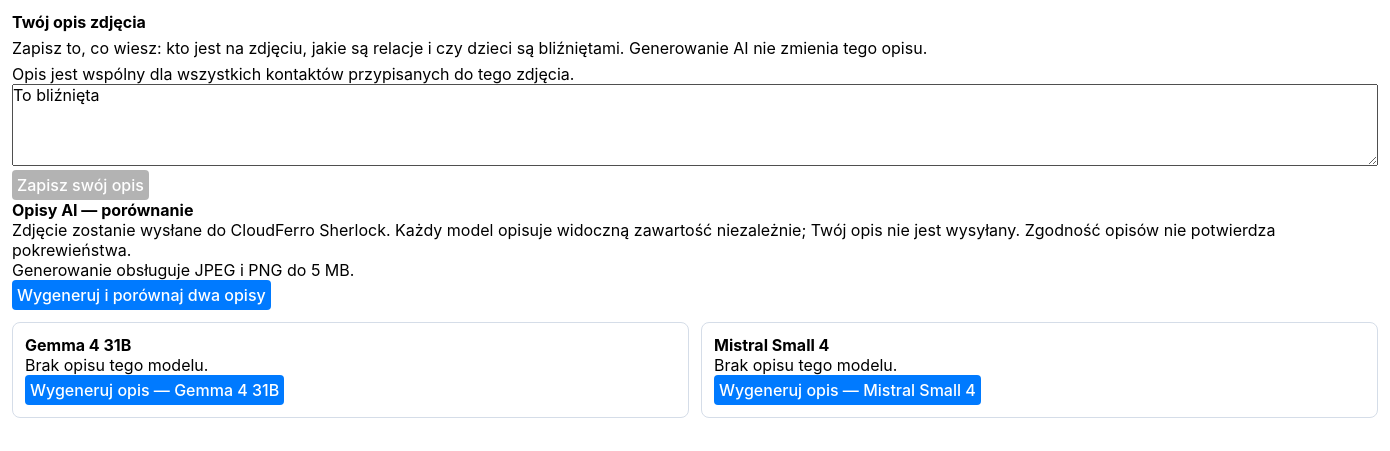
Test: contact photo descriptions › saves user knowledge with a revision and retains generated descriptions
Click the button "Wygeneruj opis — Gemma 4 31B".
click(155, 390)  # box 25,375 -> 284,405
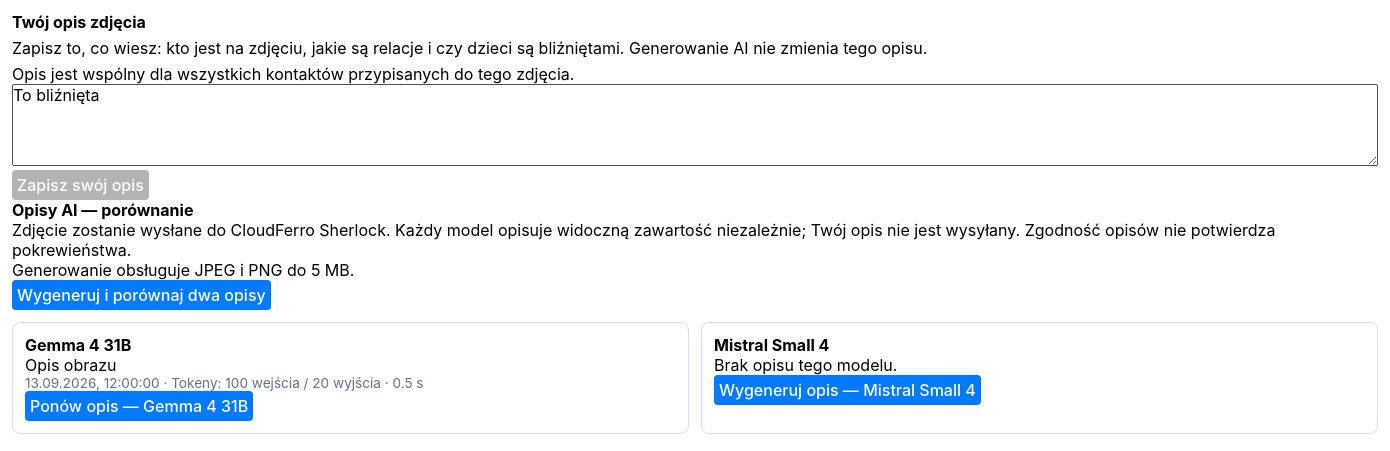
Now the text "Opis obrazu" is shown, box 25,355 -> 116,375
Replace the text in the text box labelled "Twój opis zdjęcia" with "Dzieci z grupy Filipa" at (695, 125), box 12,84 -> 1378,166
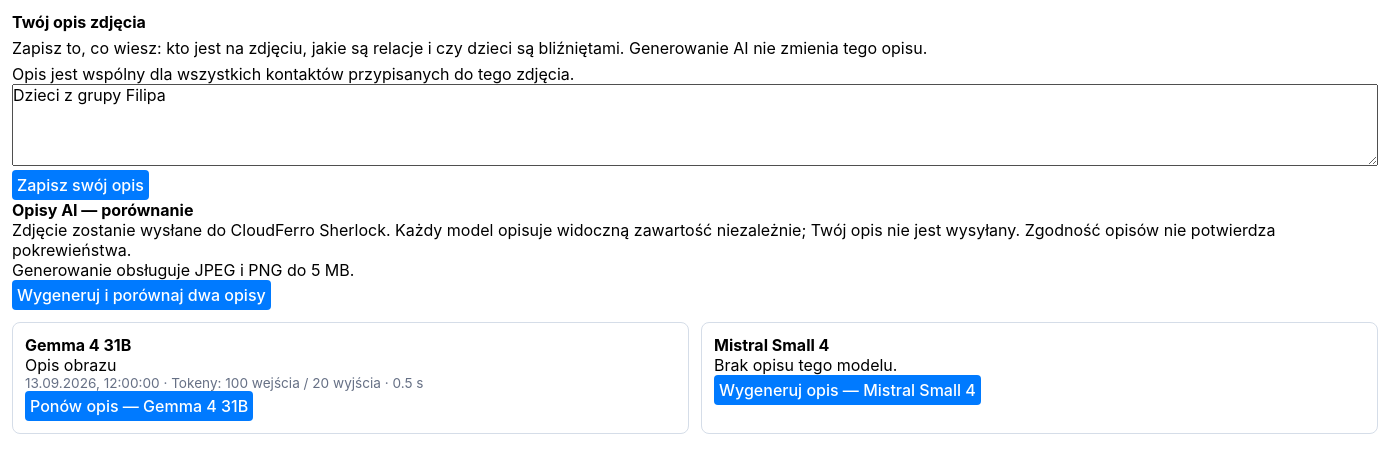
Click the button "Zapisz swój opis".
click(80, 185)  # box 12,170 -> 149,200
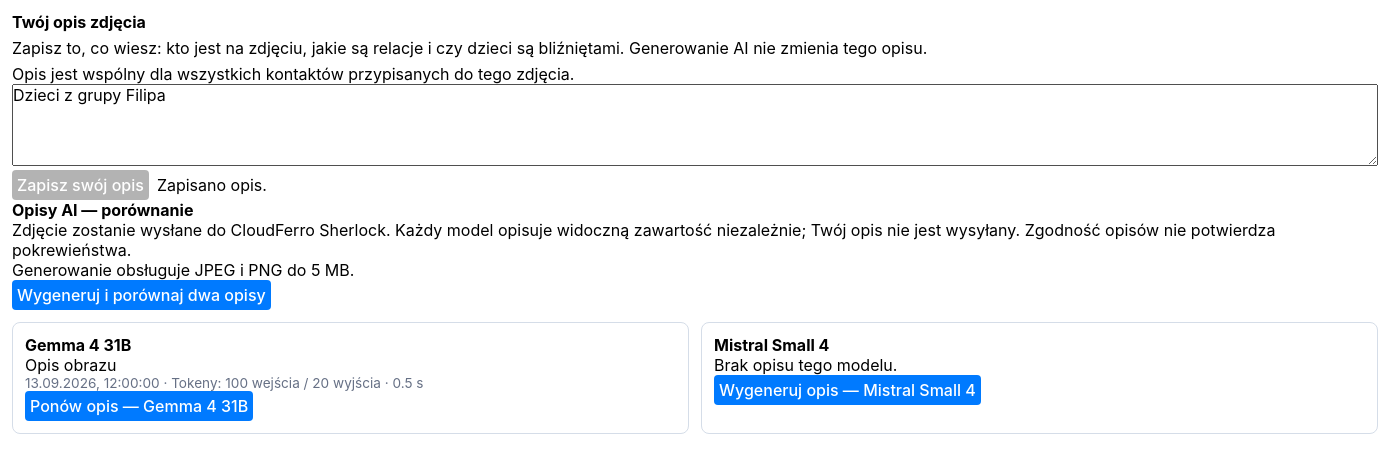
Now the text "Opis obrazu" is shown, box 25,355 -> 116,375
Now the text "Zapisano opis." is shown, box 157,175 -> 267,195
